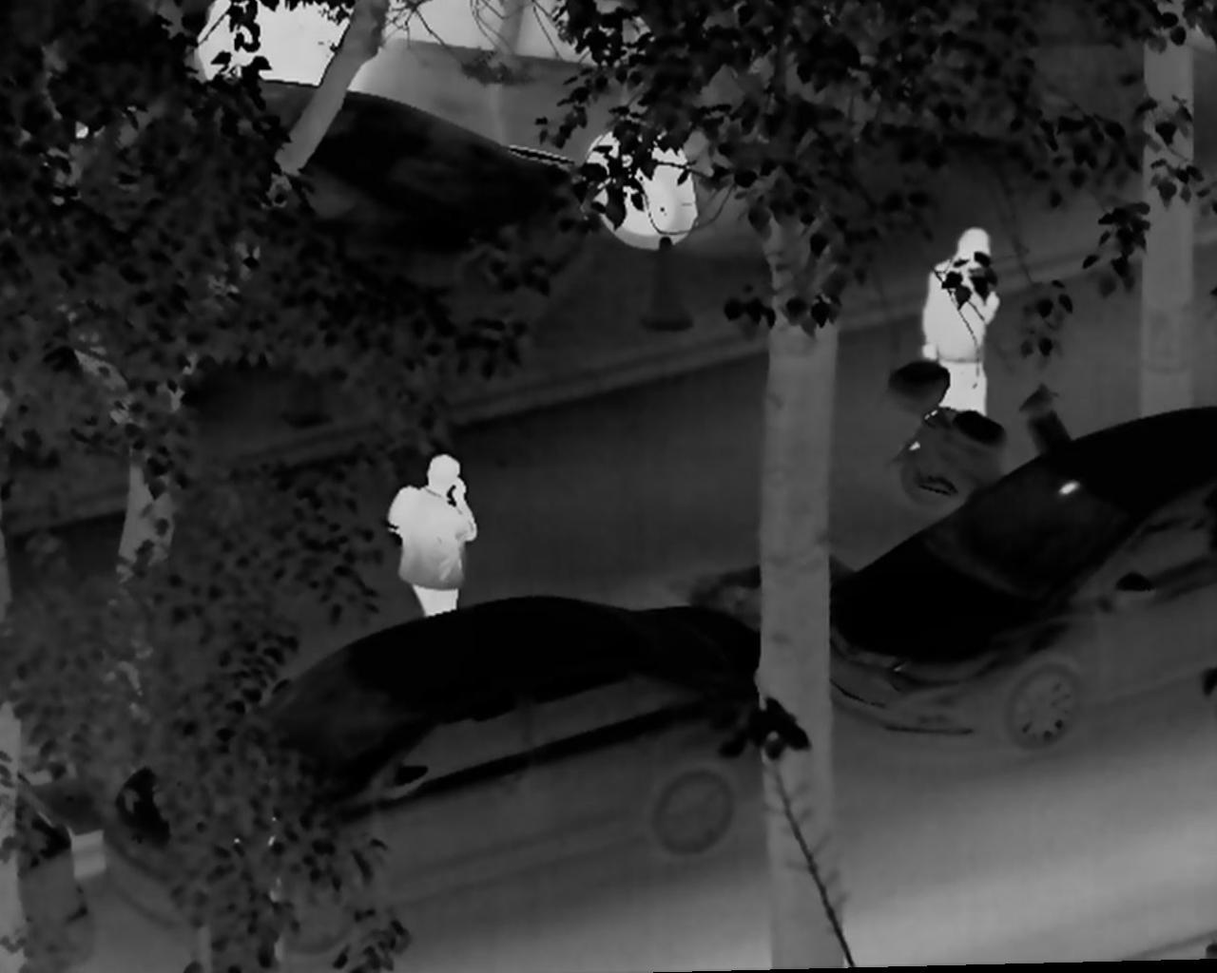person: (901, 224, 997, 461), (378, 448, 480, 619)
